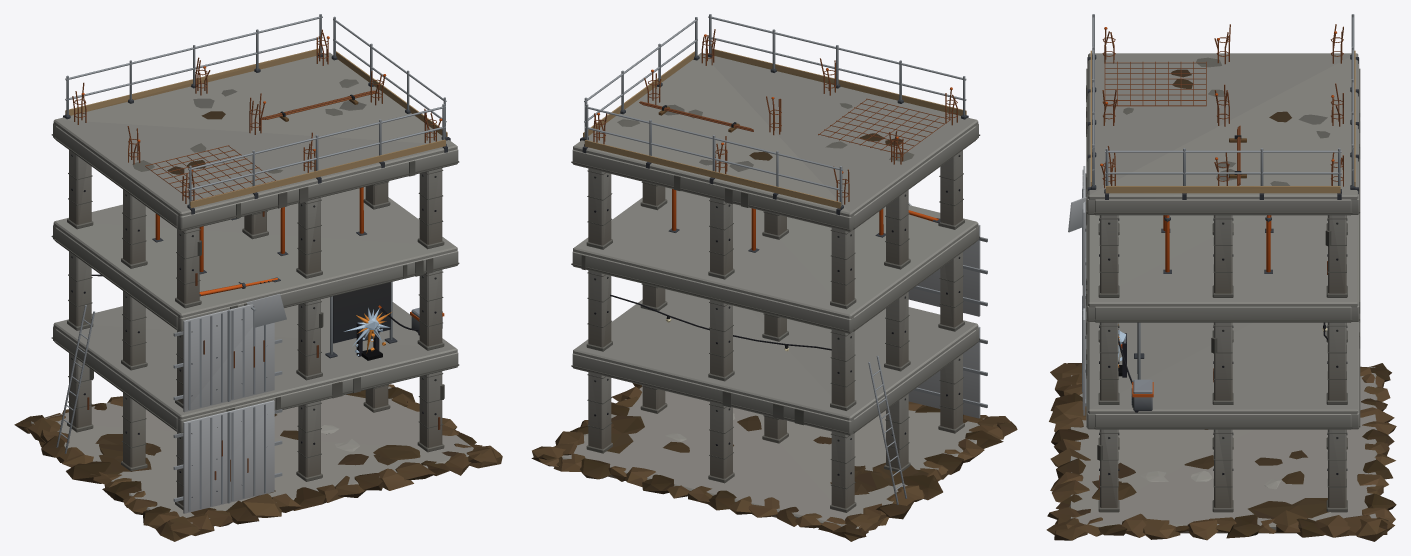
File: concrete-frame-wip.glb
The picture shows the model from 3 angles, left to right: view 1: azimuth 30°, elevation 25°; view 2: azimuth 150°, elevation 25°; view 3: azimuth 270°, elevation 25°; orthographic projection. The views are drawn at different scales.
Parts seen in each view (by area): view 1: concrete_frame_wip; view 2: concrete_frame_wip; view 3: concrete_frame_wip.
Boxes of the visible parts, x1,y1,x2,y2 form: concrete_frame_wip: (14,14,502,541); concrete_frame_wip: (531,14,1017,541); concrete_frame_wip: (1046,14,1396,541).
Size of the model in its own units: 10.03 by 9.8 by 8.3.
